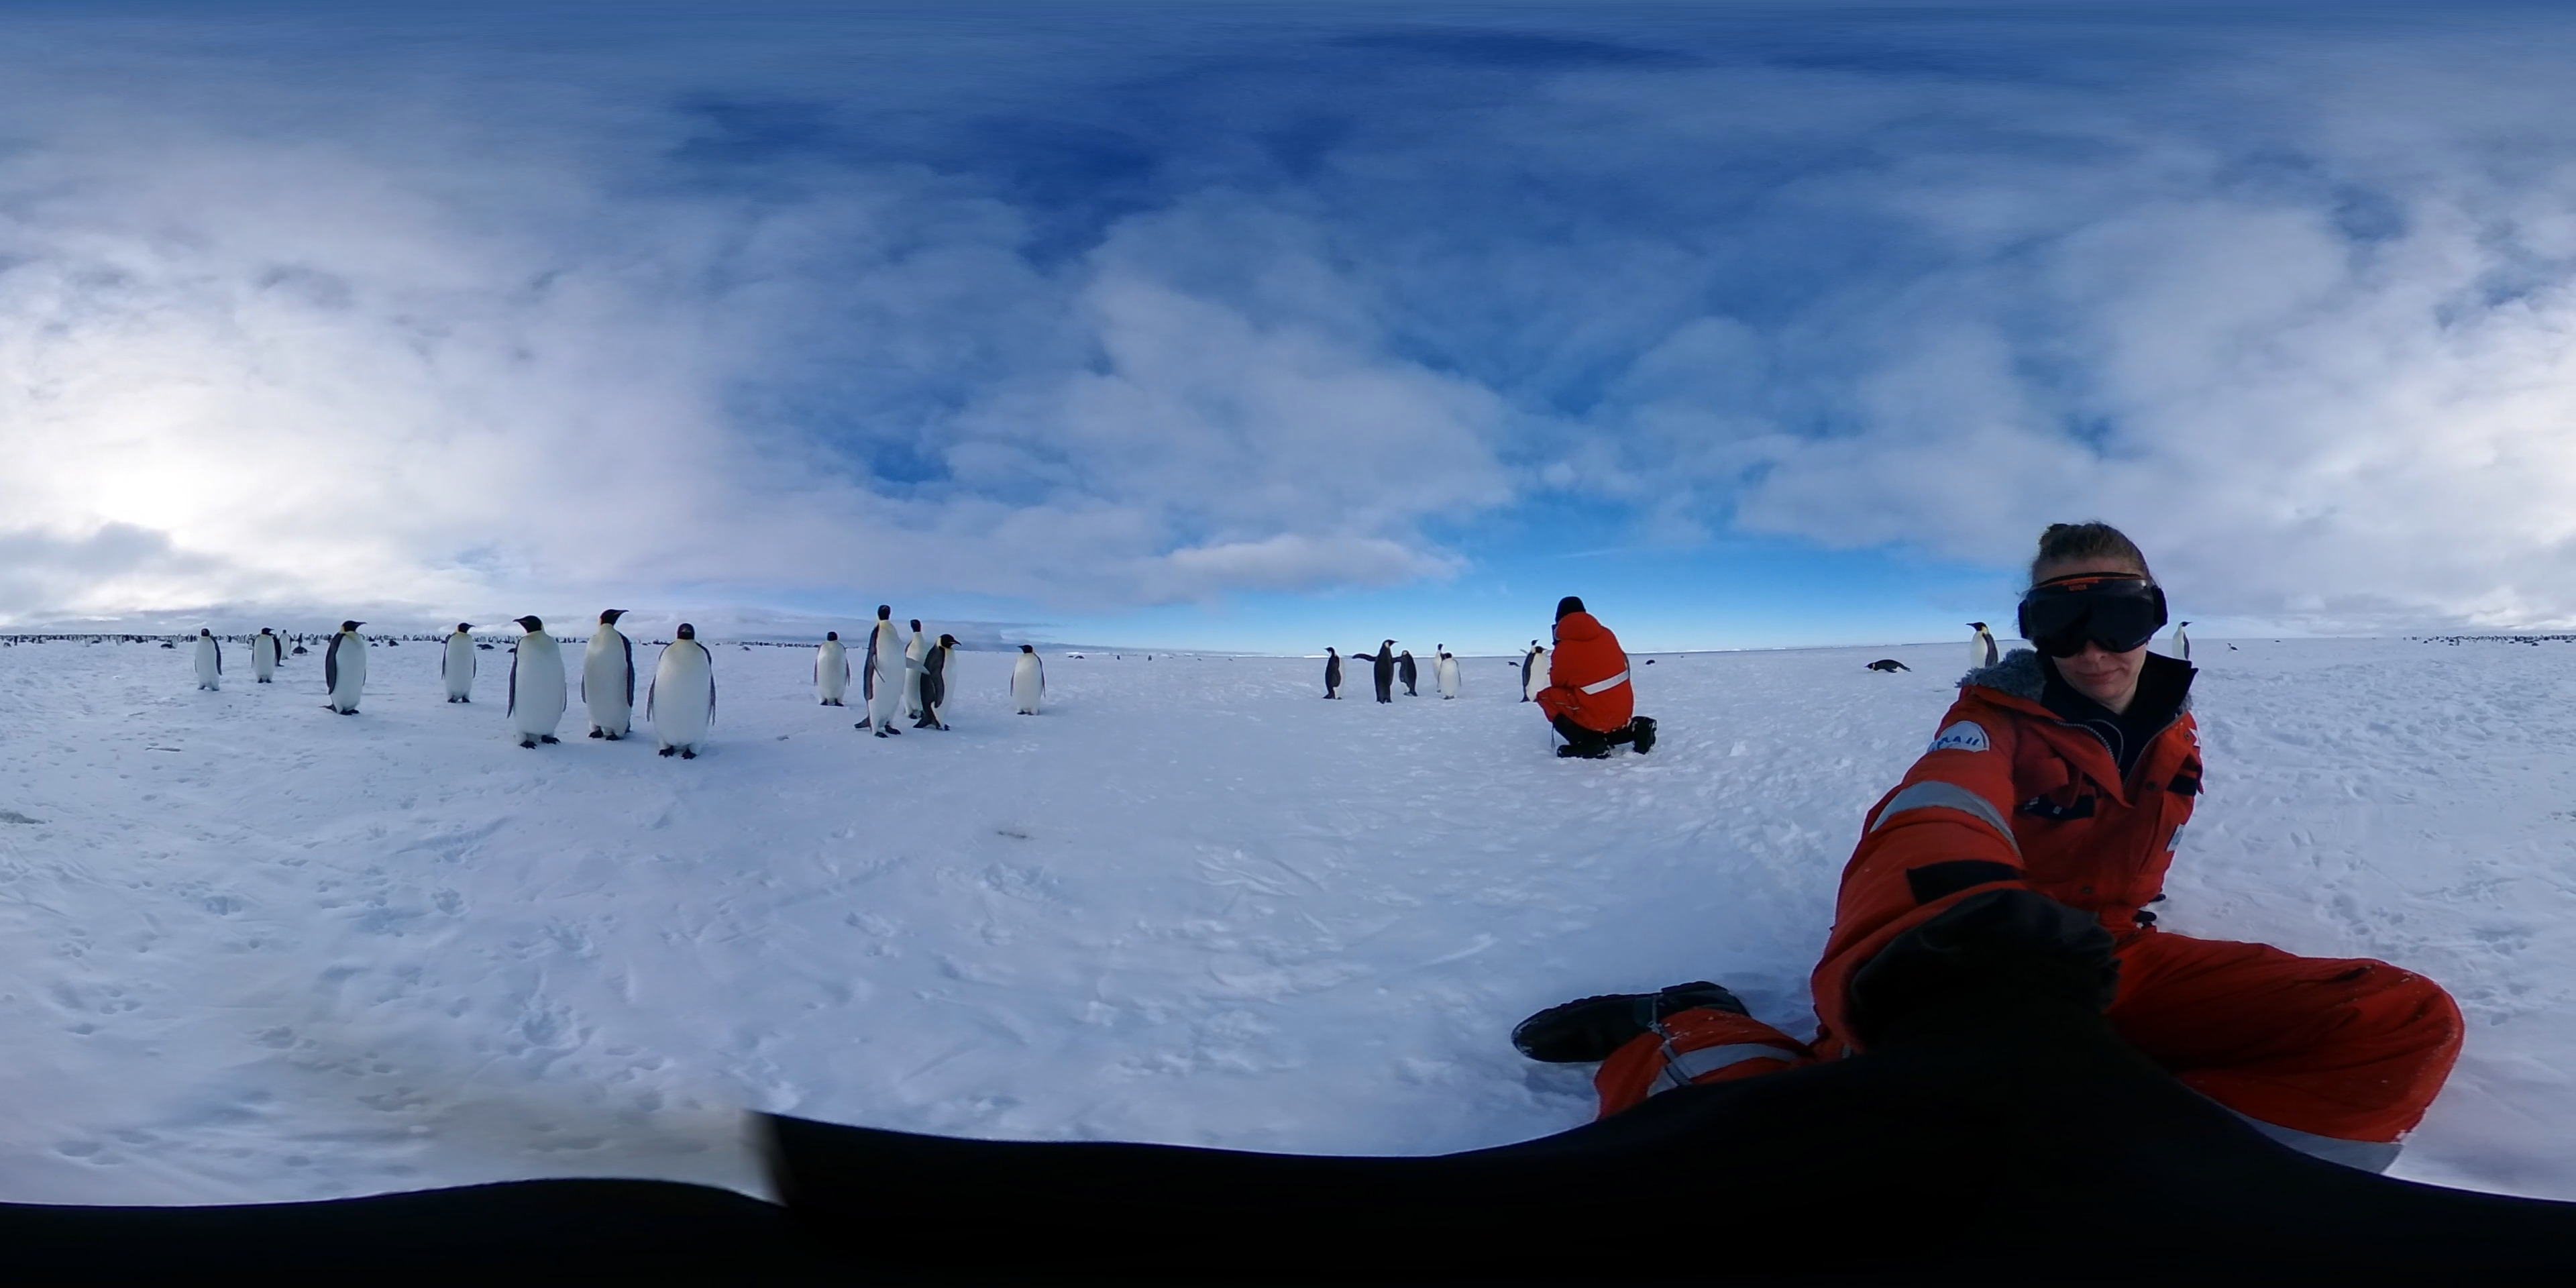adult_standing_penguin: (644, 623, 723, 762), (504, 613, 570, 751), (577, 606, 639, 744), (856, 600, 902, 743), (912, 631, 964, 733), (319, 618, 370, 718), (1352, 636, 1411, 705), (808, 629, 853, 710), (439, 623, 480, 706), (1005, 642, 1050, 718), (900, 619, 928, 721), (1963, 619, 2003, 678), (192, 628, 227, 692), (1516, 649, 1554, 706), (1434, 652, 1469, 705), (246, 628, 278, 685), (1321, 646, 1349, 701), (1395, 647, 1423, 701), (2170, 616, 2195, 677), (1431, 641, 1444, 688), (278, 629, 296, 662)
adult_toboggan_penguin: (1863, 657, 1914, 675), (292, 644, 314, 659)
researcher: (1483, 514, 2484, 1229), (1541, 596, 1661, 762)
